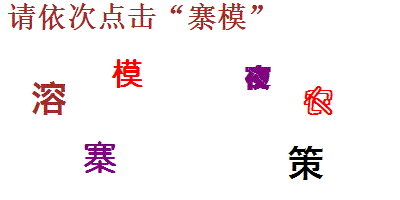text: (288, 144, 325, 183), (30, 79, 67, 117), (83, 140, 117, 176), (111, 57, 145, 90), (302, 85, 334, 117), (243, 64, 272, 91)
